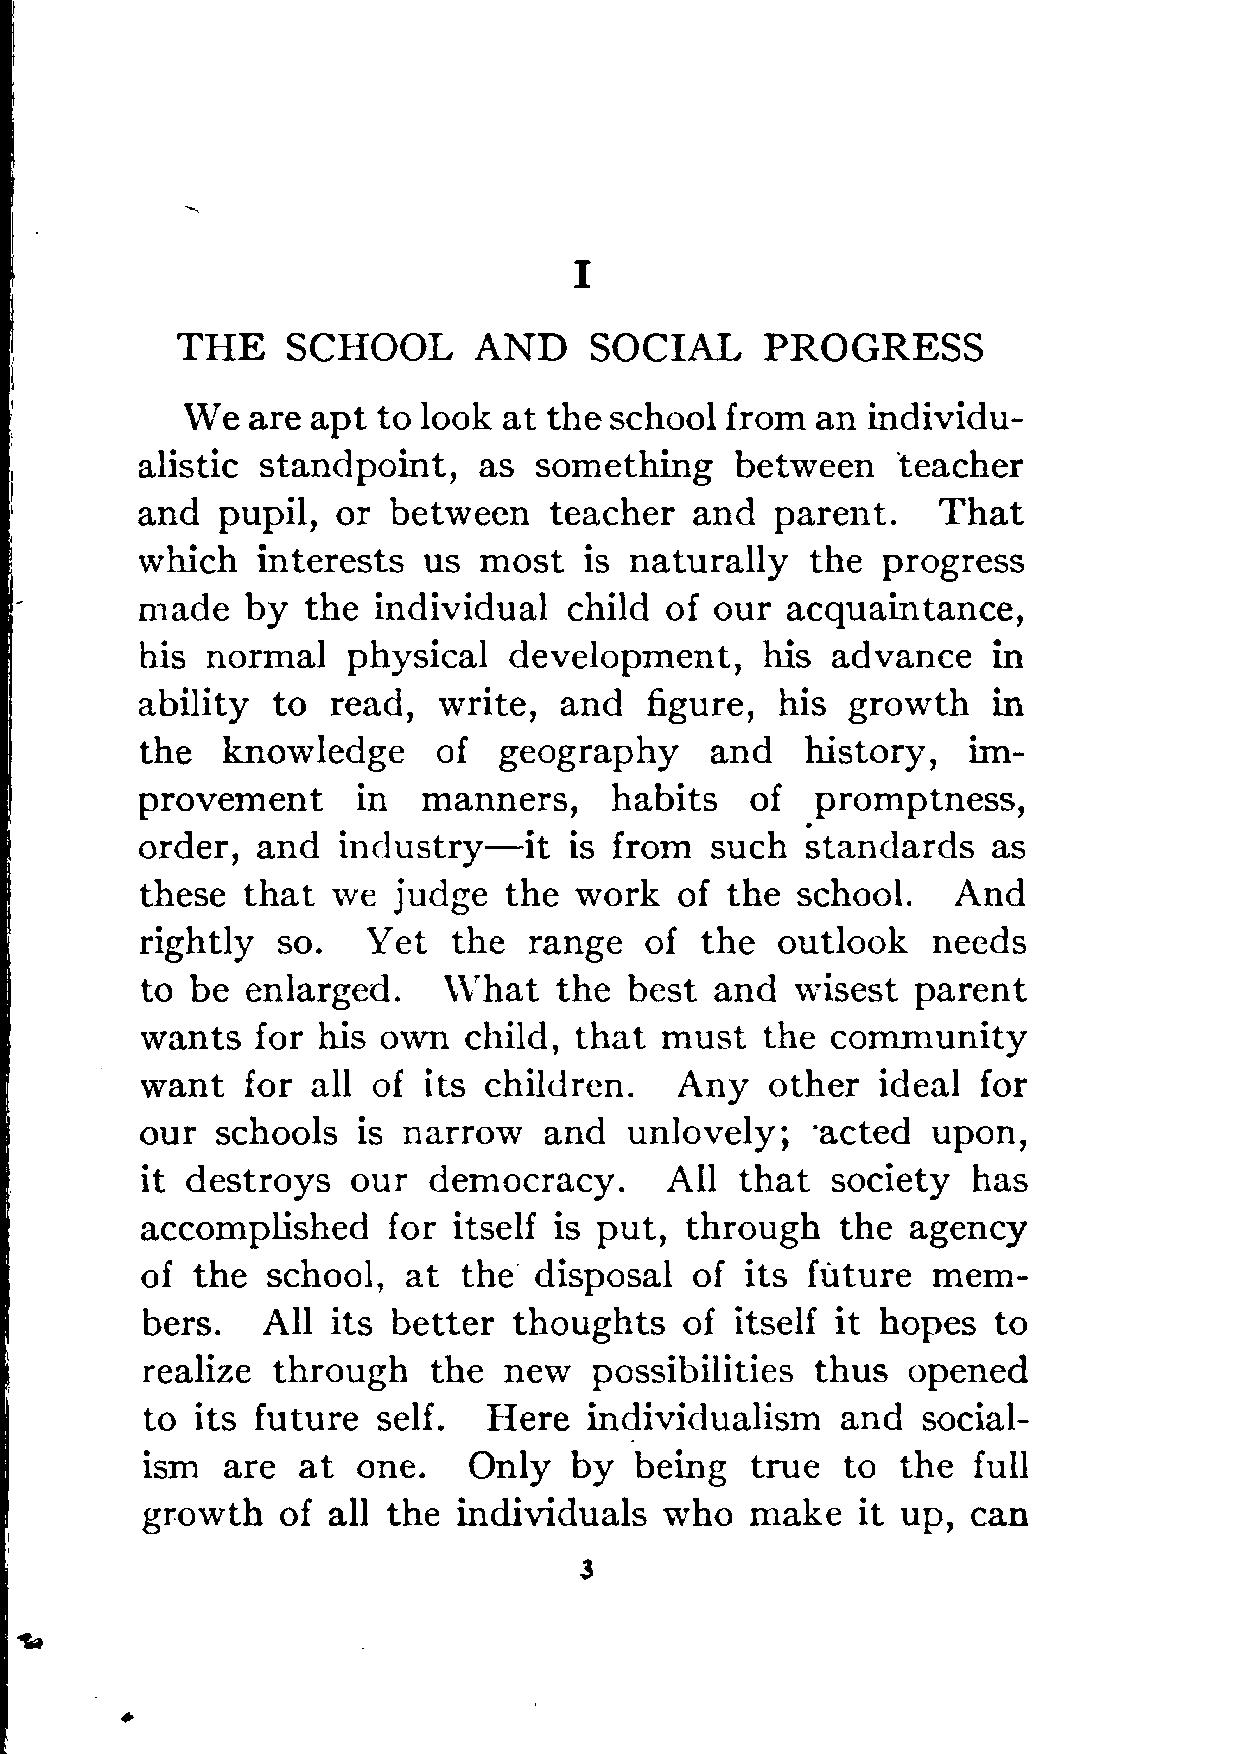chapter: (173, 258, 982, 366)
content: (133, 399, 1036, 1538)
content_pagenumber: (574, 1555, 597, 1584)
